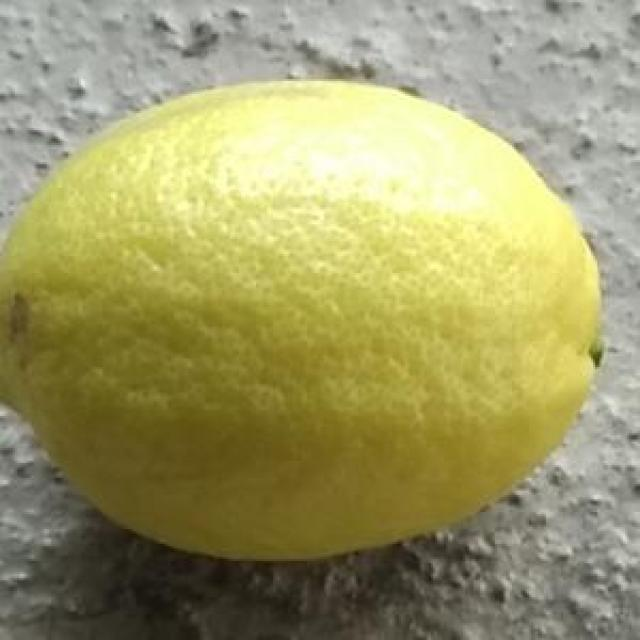lemon: (5, 72, 611, 564)
